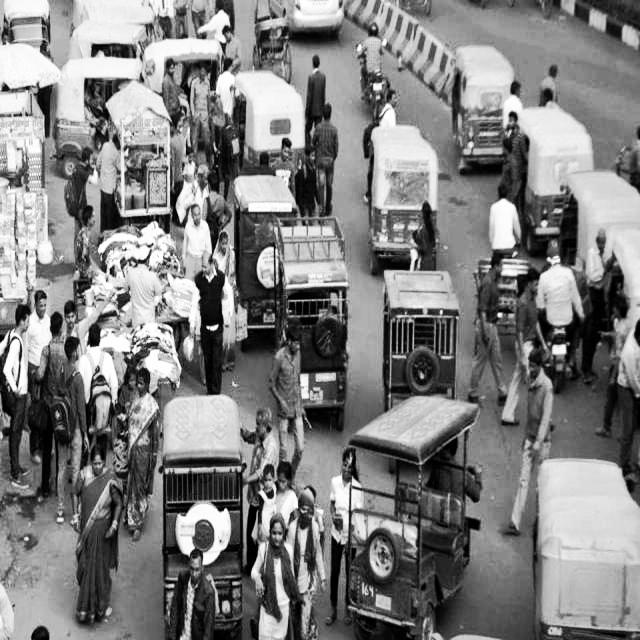Toto: (346, 396, 486, 640), (161, 388, 251, 629), (278, 213, 356, 417), (381, 260, 462, 405)
